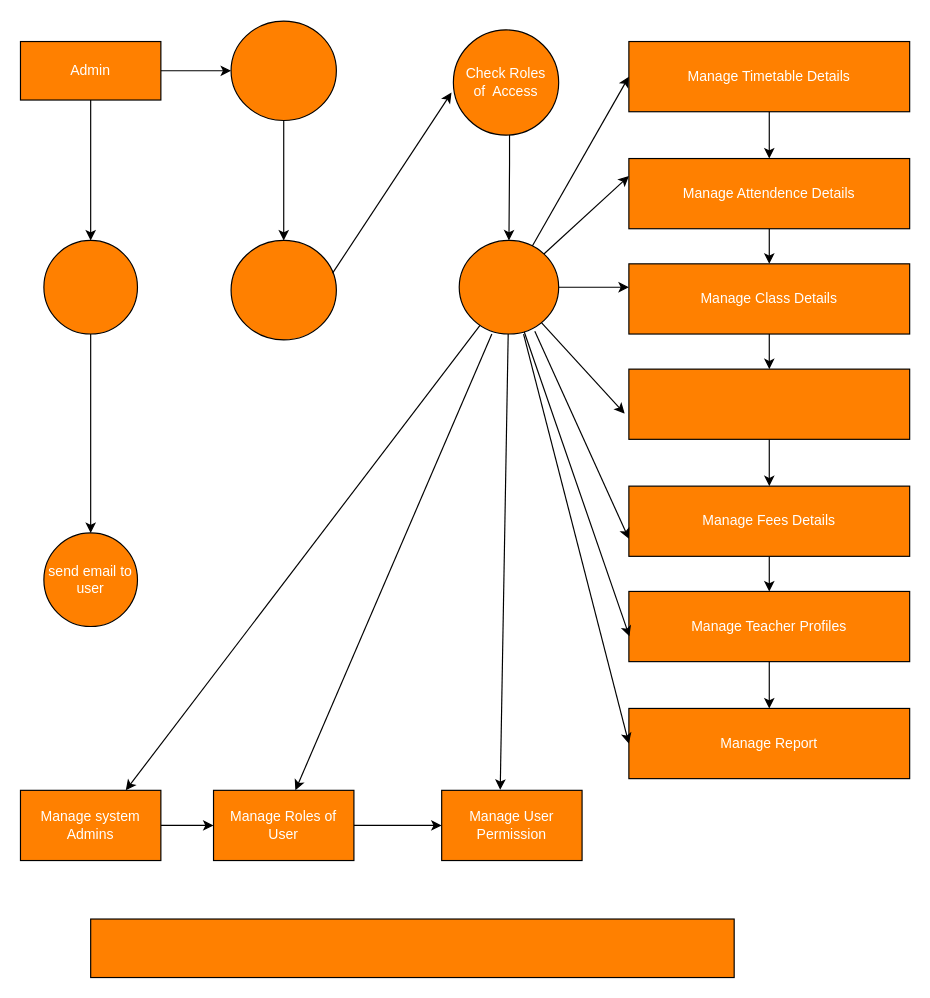
The diagram is 930 pixels wide and 998 high, and some of its shapes have lost their labels. The box of each missing label's shape, as (x1, y1, x2, y2) in pixels:
Chech Credentials: (230, 239, 336, 340)
forget password: (43, 239, 137, 334)
Login to System: (230, 20, 336, 121)
Manage Modules: (458, 239, 559, 334)
Manage Student Details: (628, 368, 910, 439)
Student Information System: (90, 918, 734, 978)
